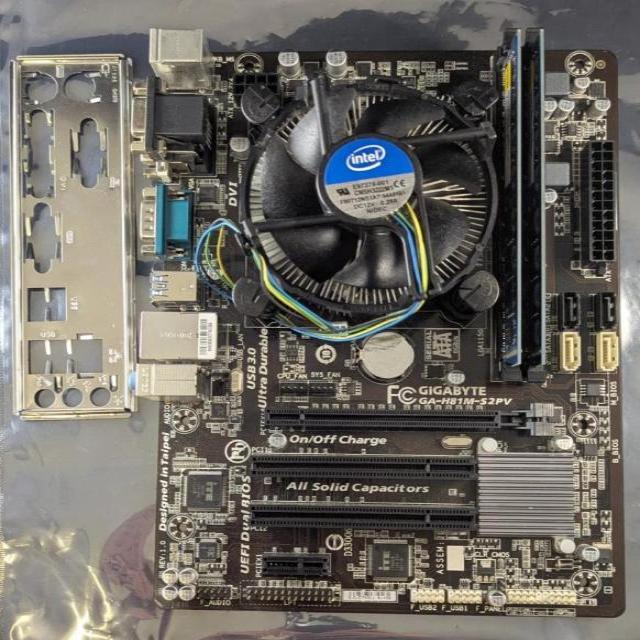CPU_Fan: (229, 73, 502, 321)
RAM: (523, 28, 549, 366), (503, 28, 524, 368)
